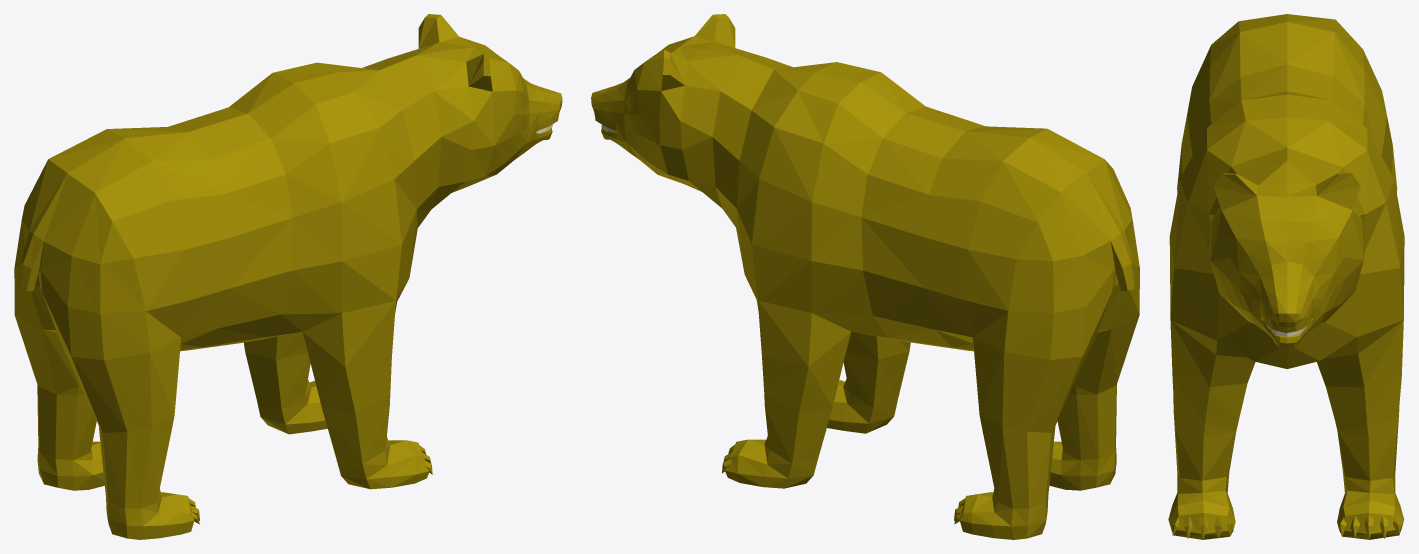
The model's file is 4fbef08d-01e3-4a33-970d-d44df6e7c3b1.glb.
3 views of the same model, side by side, from view 1: azimuth 30°, elevation 25°; view 2: azimuth 150°, elevation 25°; view 3: azimuth 270°, elevation 25° (orthographic). The views are drawn at different scales.
Visible parts, largest first — view 1: Bear; view 2: Bear; view 3: Bear.
Part boxes in pixels (bbox=[...]): Bear: bbox=[14, 14, 562, 539]; Bear: bbox=[591, 14, 1139, 539]; Bear: bbox=[1168, 14, 1404, 539].
Size of the model in its own units: 286 by 196 by 102.
